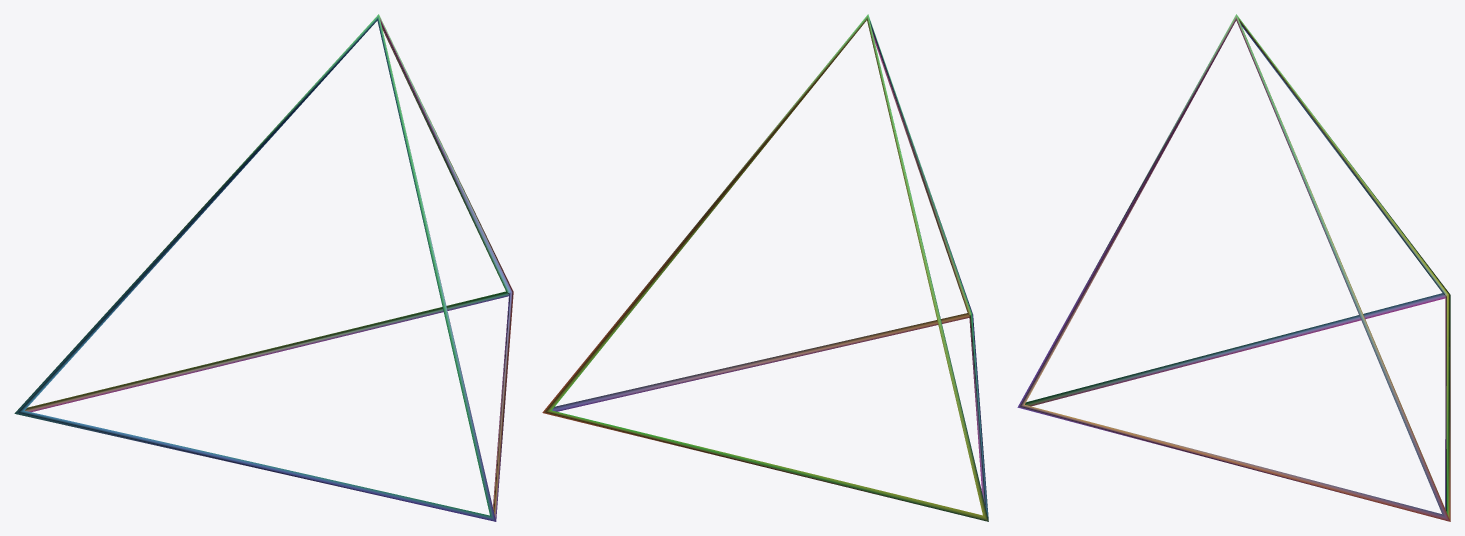
File: zeometry-wireframes-wire-tetrahedron_v1.glb
3 renders of one model, left to right at view 1: azimuth 30°, elevation 25°; view 2: azimuth 150°, elevation 25°; view 3: azimuth 270°, elevation 25°, orthographic. The views are drawn at different scales.
Parts seen in each view (by area): view 1: Wire Tetrahedron; view 2: Wire Tetrahedron; view 3: Wire Tetrahedron.
Part boxes in pixels (x1,y1,x2,y2): Wire Tetrahedron: (14,14,513,521); Wire Tetrahedron: (542,14,988,521); Wire Tetrahedron: (1017,14,1450,521).
Bounding box in the file's own units: 0.5 × 0.4049 × 0.4027.
